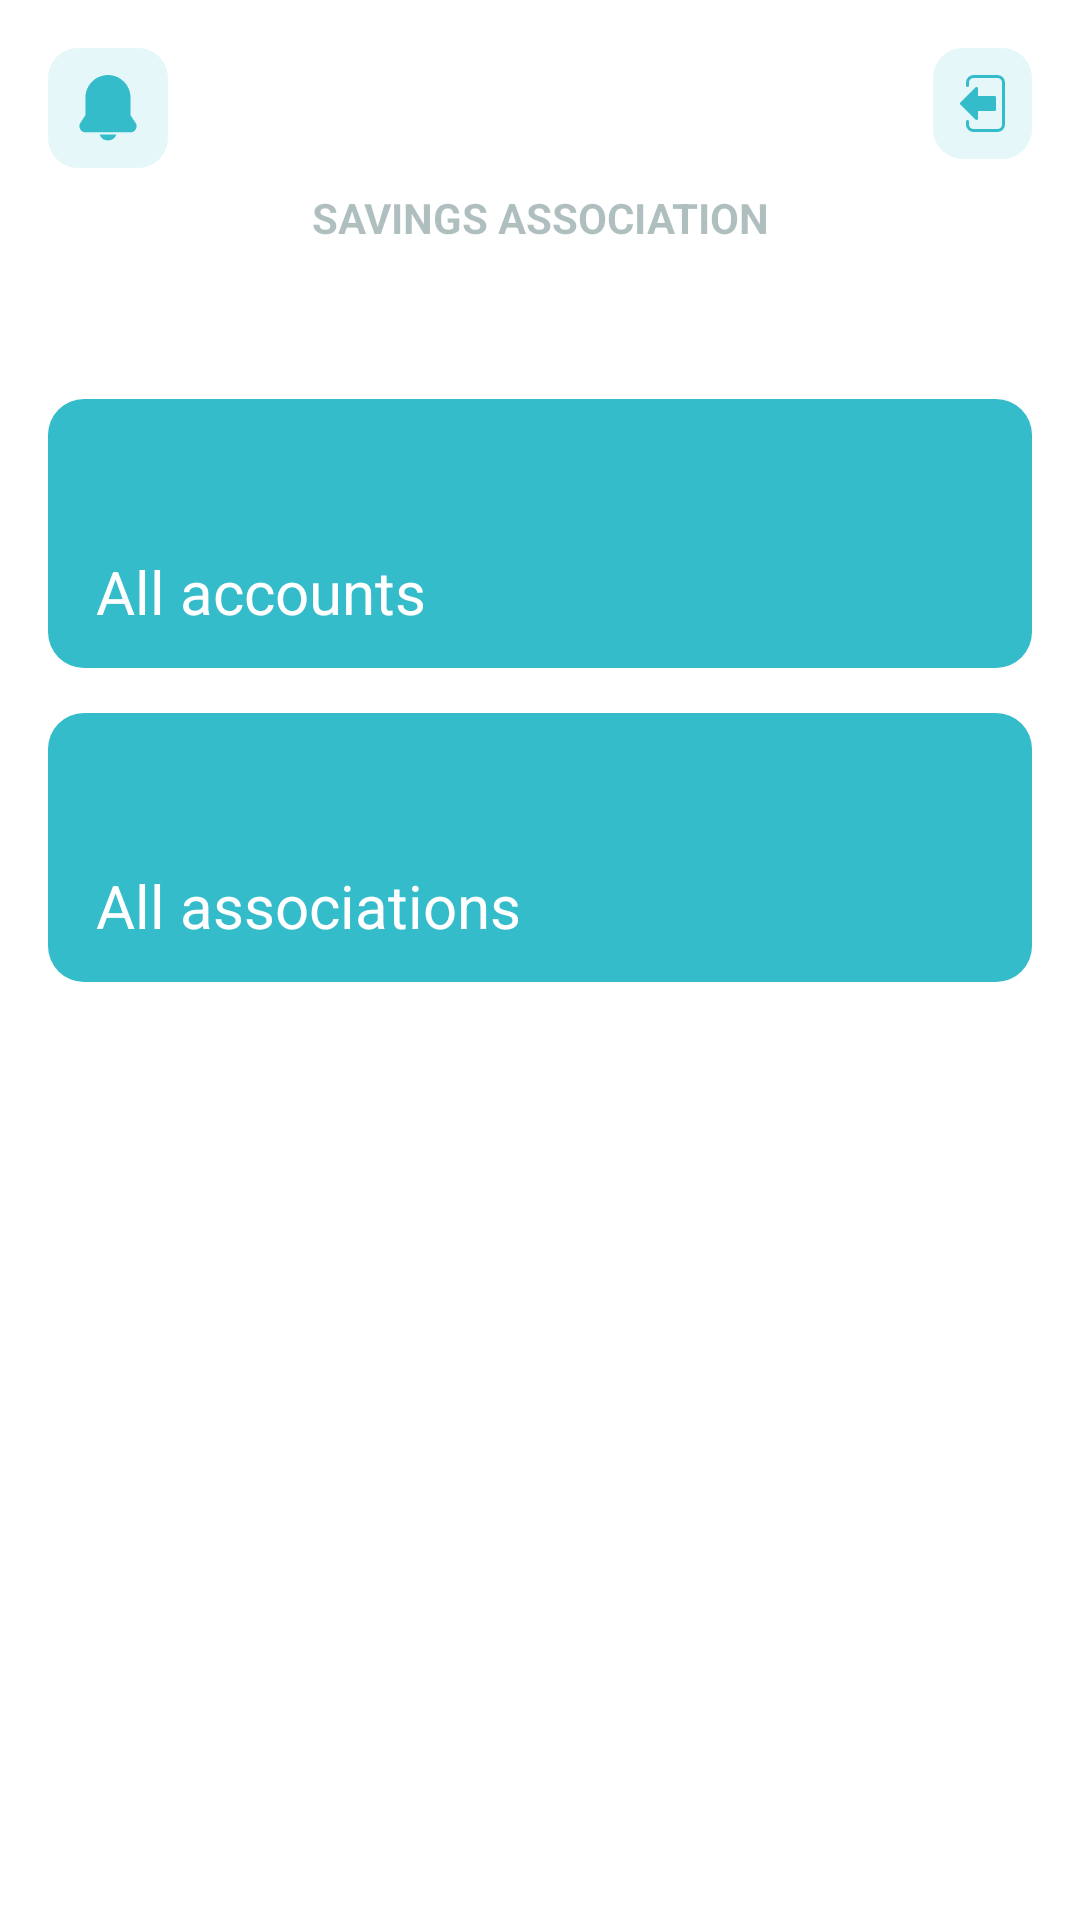

Where to tap for icons on this 1080×1920 app screen, as point (x, y):
notification: point (108, 108)
